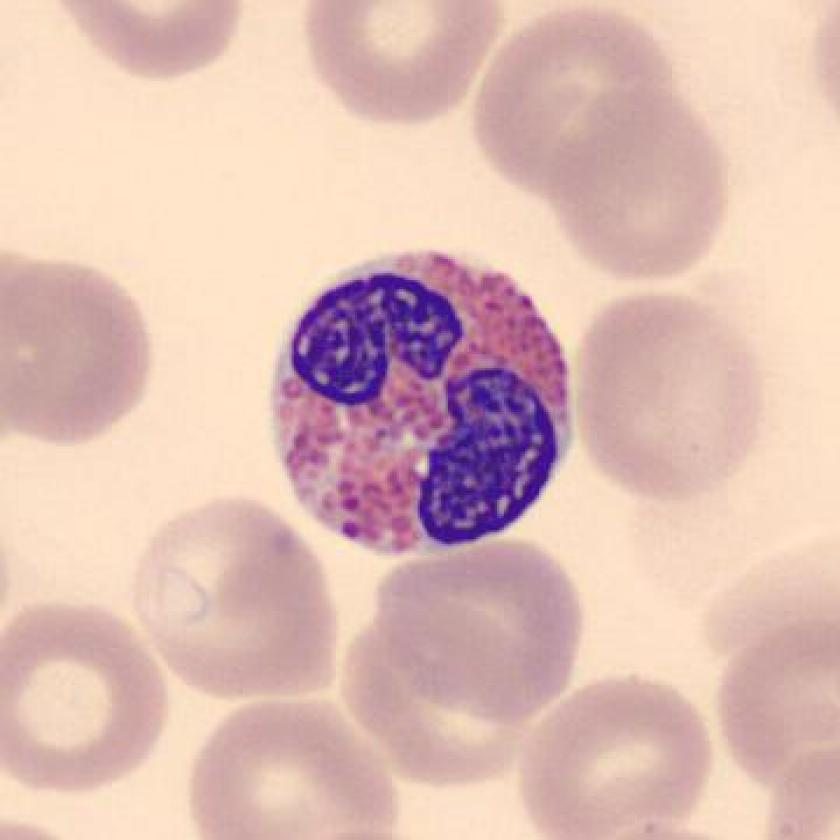eosinophil: (260, 235, 584, 573)
